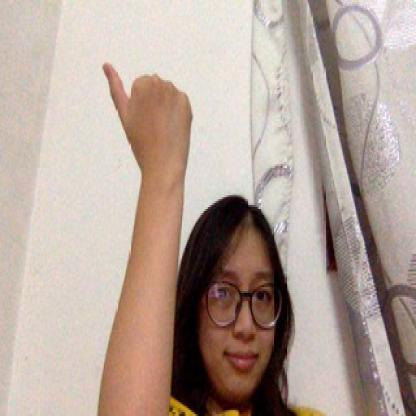right: (101, 56, 194, 178)
